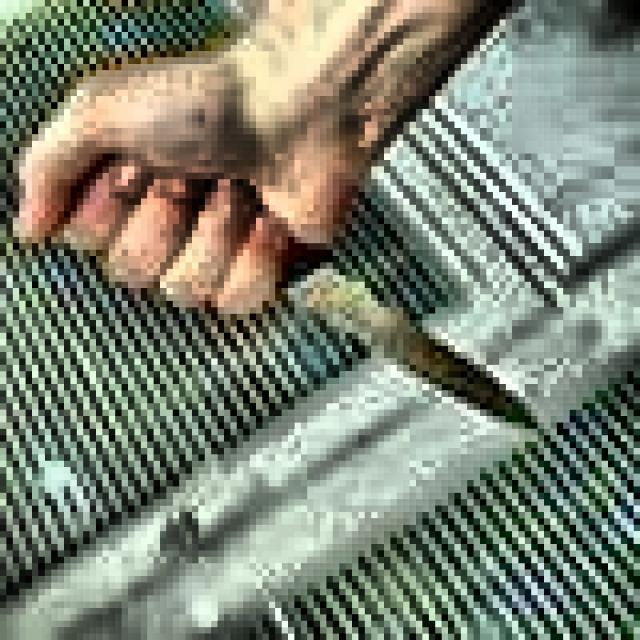knife: (280, 246, 548, 437)
